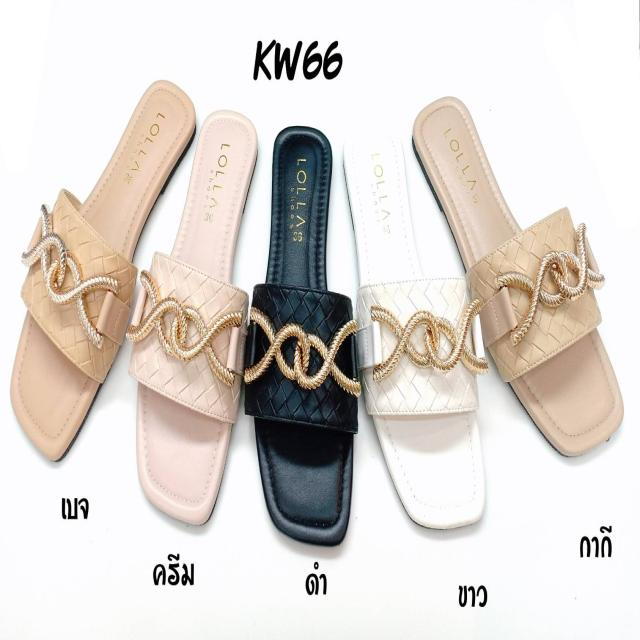bej: (14, 74, 195, 457)
black: (251, 125, 355, 546)
cream: (136, 123, 257, 522)
kakee: (411, 95, 621, 459)
white: (338, 139, 486, 528)
